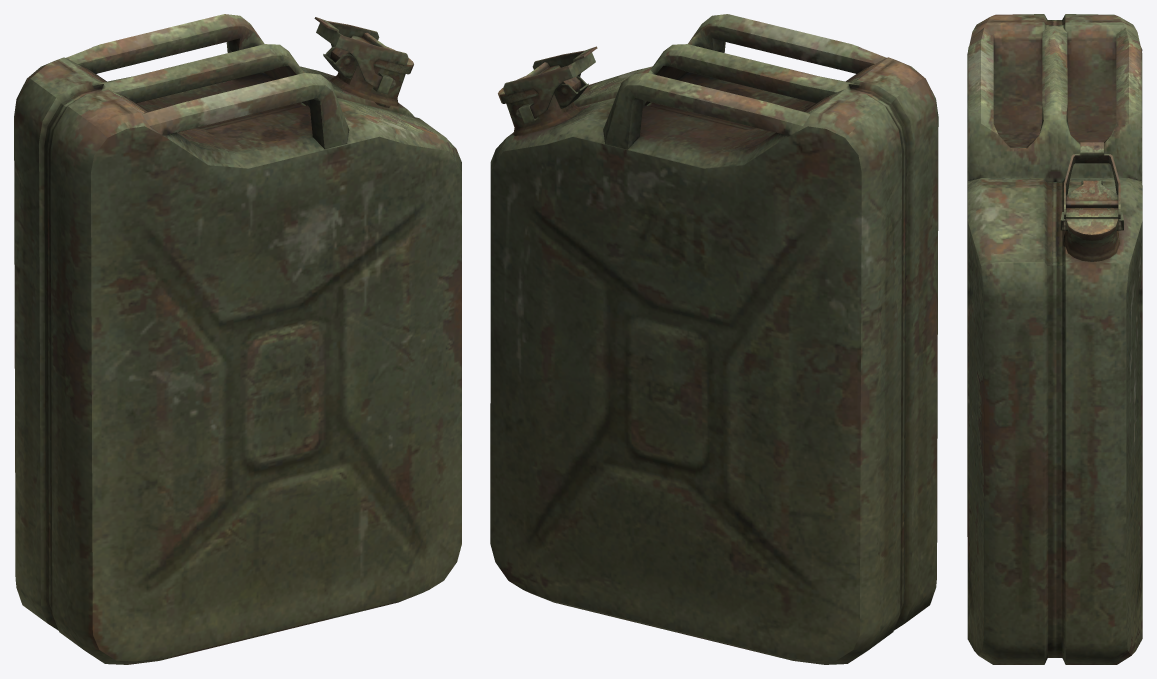
Rendered from old_metal_canister.glb.
The picture shows the model from 3 angles, left to right: view 1: azimuth 30°, elevation 25°; view 2: azimuth 150°, elevation 25°; view 3: azimuth 270°, elevation 25°; orthographic projection. The views are drawn at different scales.
Visible parts, largest first — view 1: kanistr; view 2: kanistr; view 3: kanistr.
Part boxes in pixels (x1,y1,x2,y2): kanistr: (14, 14, 461, 664); kanistr: (490, 14, 938, 664); kanistr: (967, 14, 1142, 664).
Bounding box in the file's own units: 0.3476 × 0.4743 × 0.148.
Materials: 1 (1 with a texture image).
